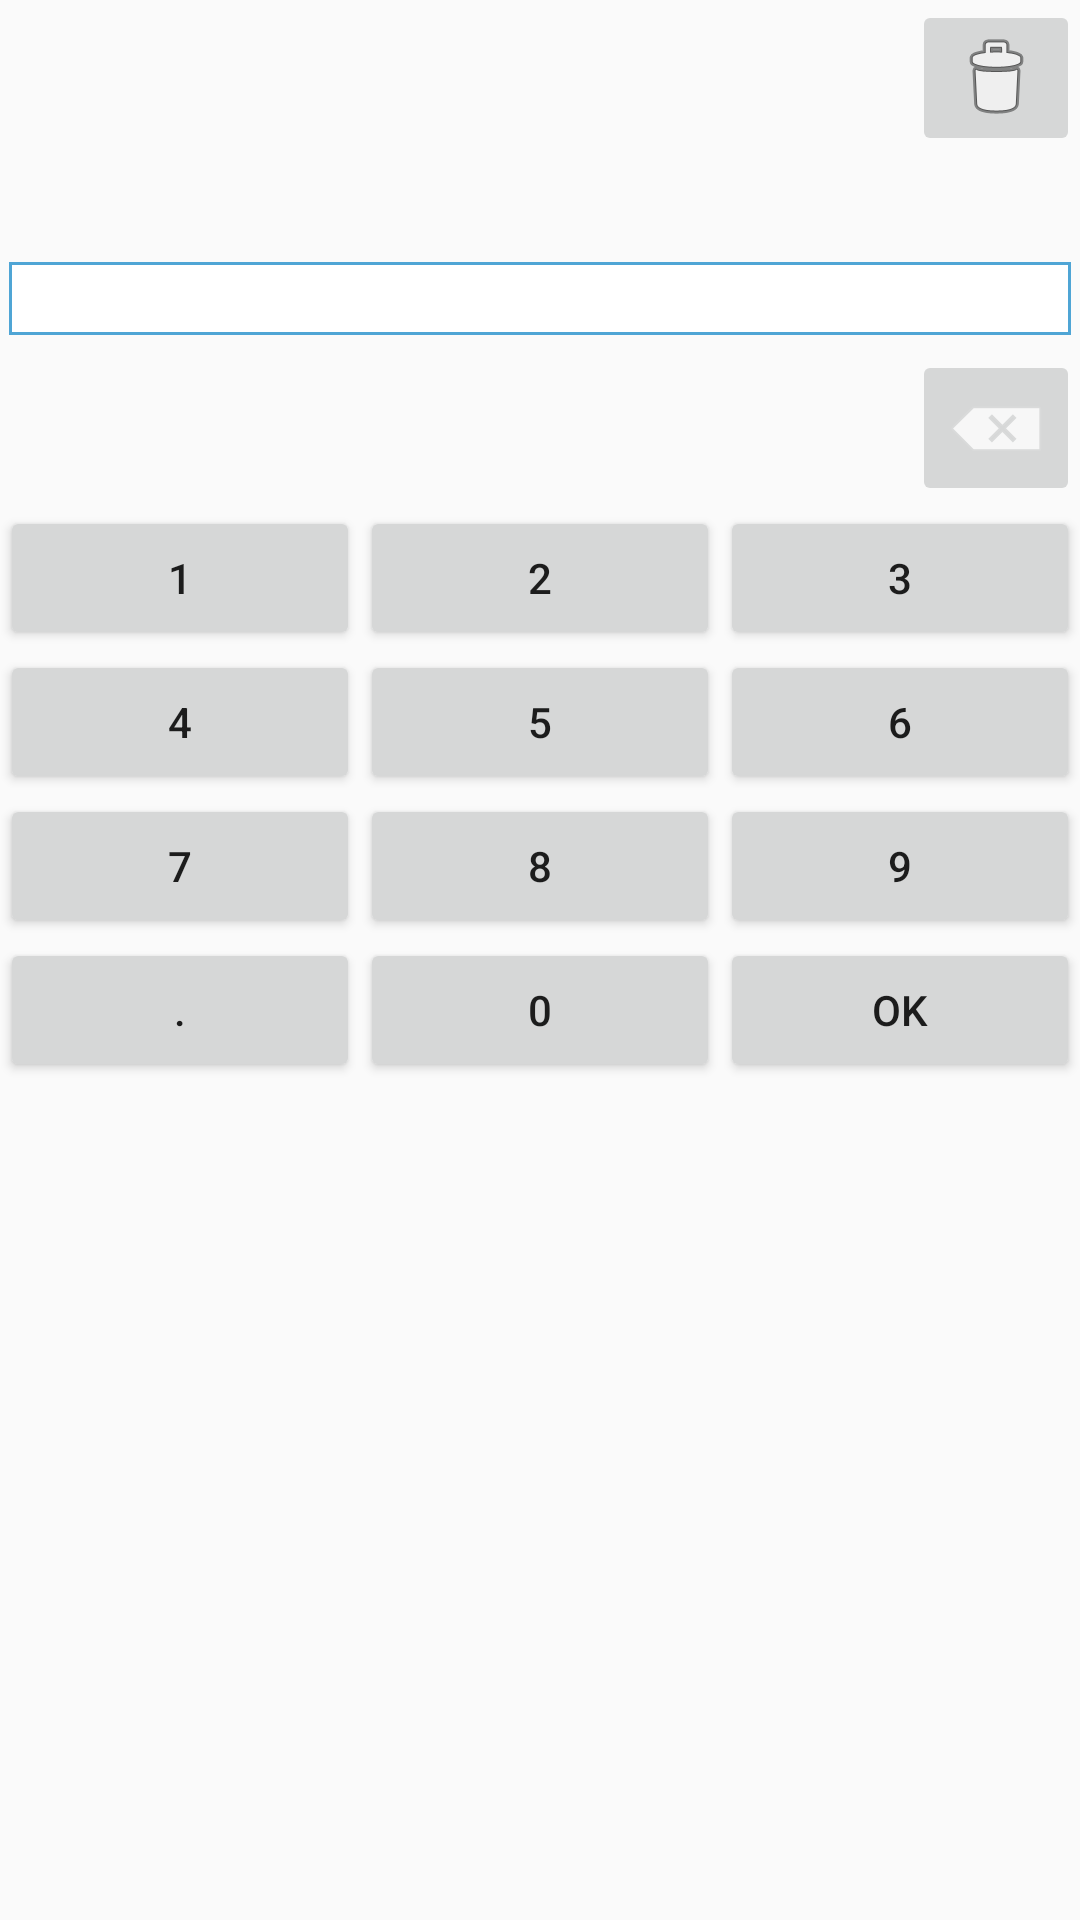

Screen size 1080*1920. Icon name, then its box in pixels as (x1, y1, x2, y2):
delete: (924, 18, 1068, 138), (924, 368, 1068, 488)
